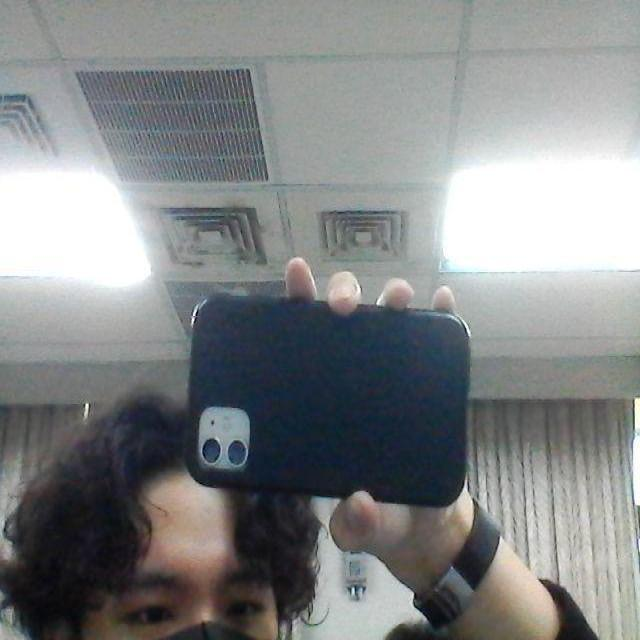mobile-phone: (179, 278, 476, 518)
